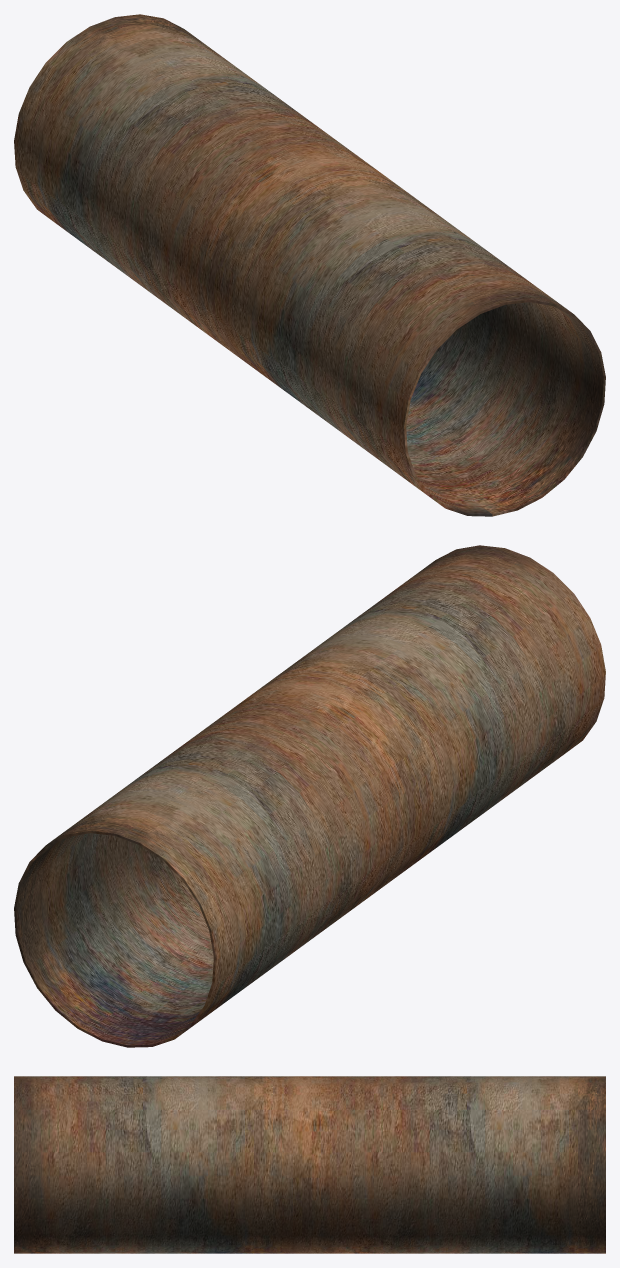
The model's file is factory house ver8.FBX.
3 renders of one model, top to bottom at view 1: azimuth 30°, elevation 25°; view 2: azimuth 150°, elevation 25°; view 3: azimuth 270°, elevation 25°, orthographic. The views are drawn at different scales.
Visible parts, largest first — view 1: 01; view 2: 01; view 3: 01.
Part boxes in pixels (x1=…): 01: x1=14, y1=14, x2=605, y2=516; 01: x1=14, y1=545, x2=605, y2=1047; 01: x1=14, y1=1076, x2=605, y2=1253.
Size of the model in its own units: 306 by 306 by 1024.
